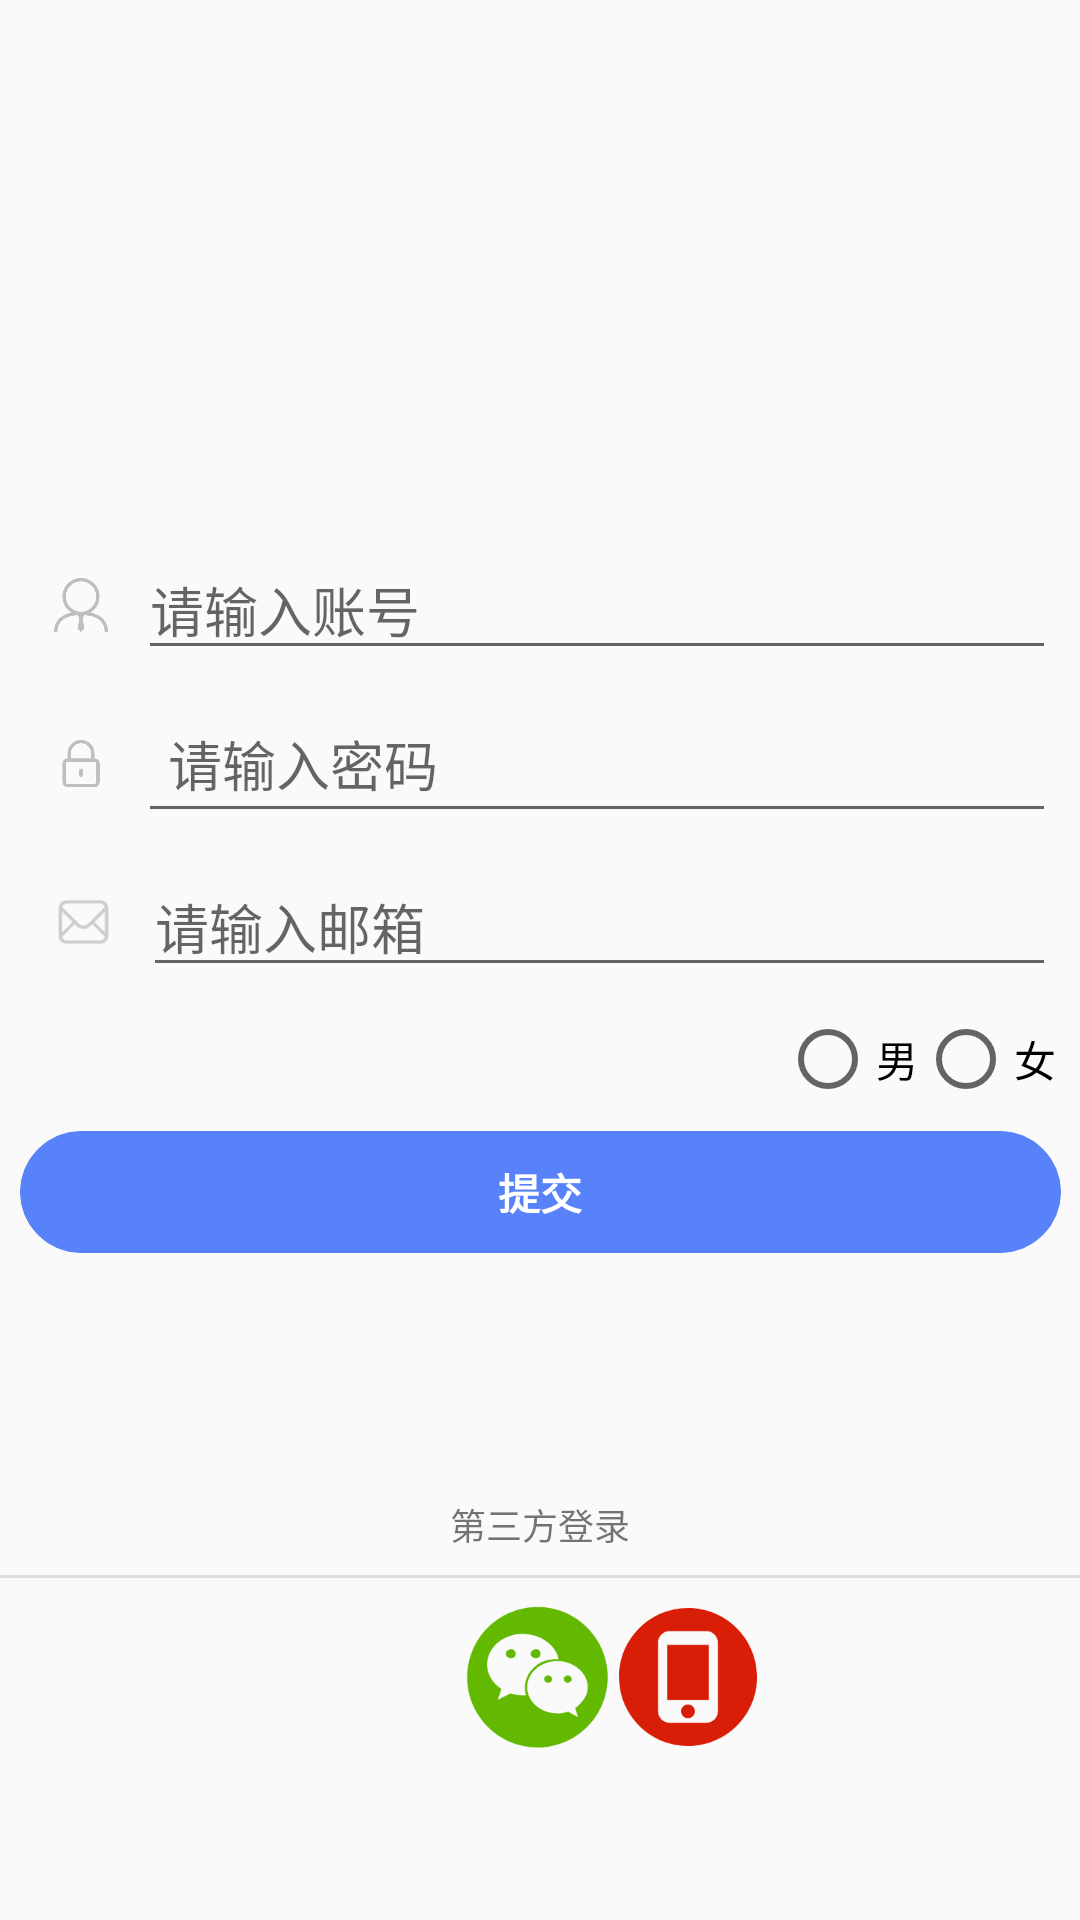

Named icons in this screenshot (1080×1920) and their centers, point (x, y):
email: point (83, 922)
lock: point (81, 763)
phone: point (688, 1677)
user: point (81, 605)
